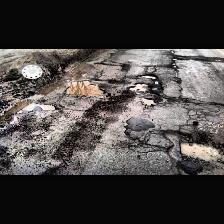pothole: (178, 129, 223, 163), (65, 80, 105, 96), (128, 82, 148, 92), (141, 96, 157, 106), (38, 103, 56, 111), (136, 74, 158, 80)
